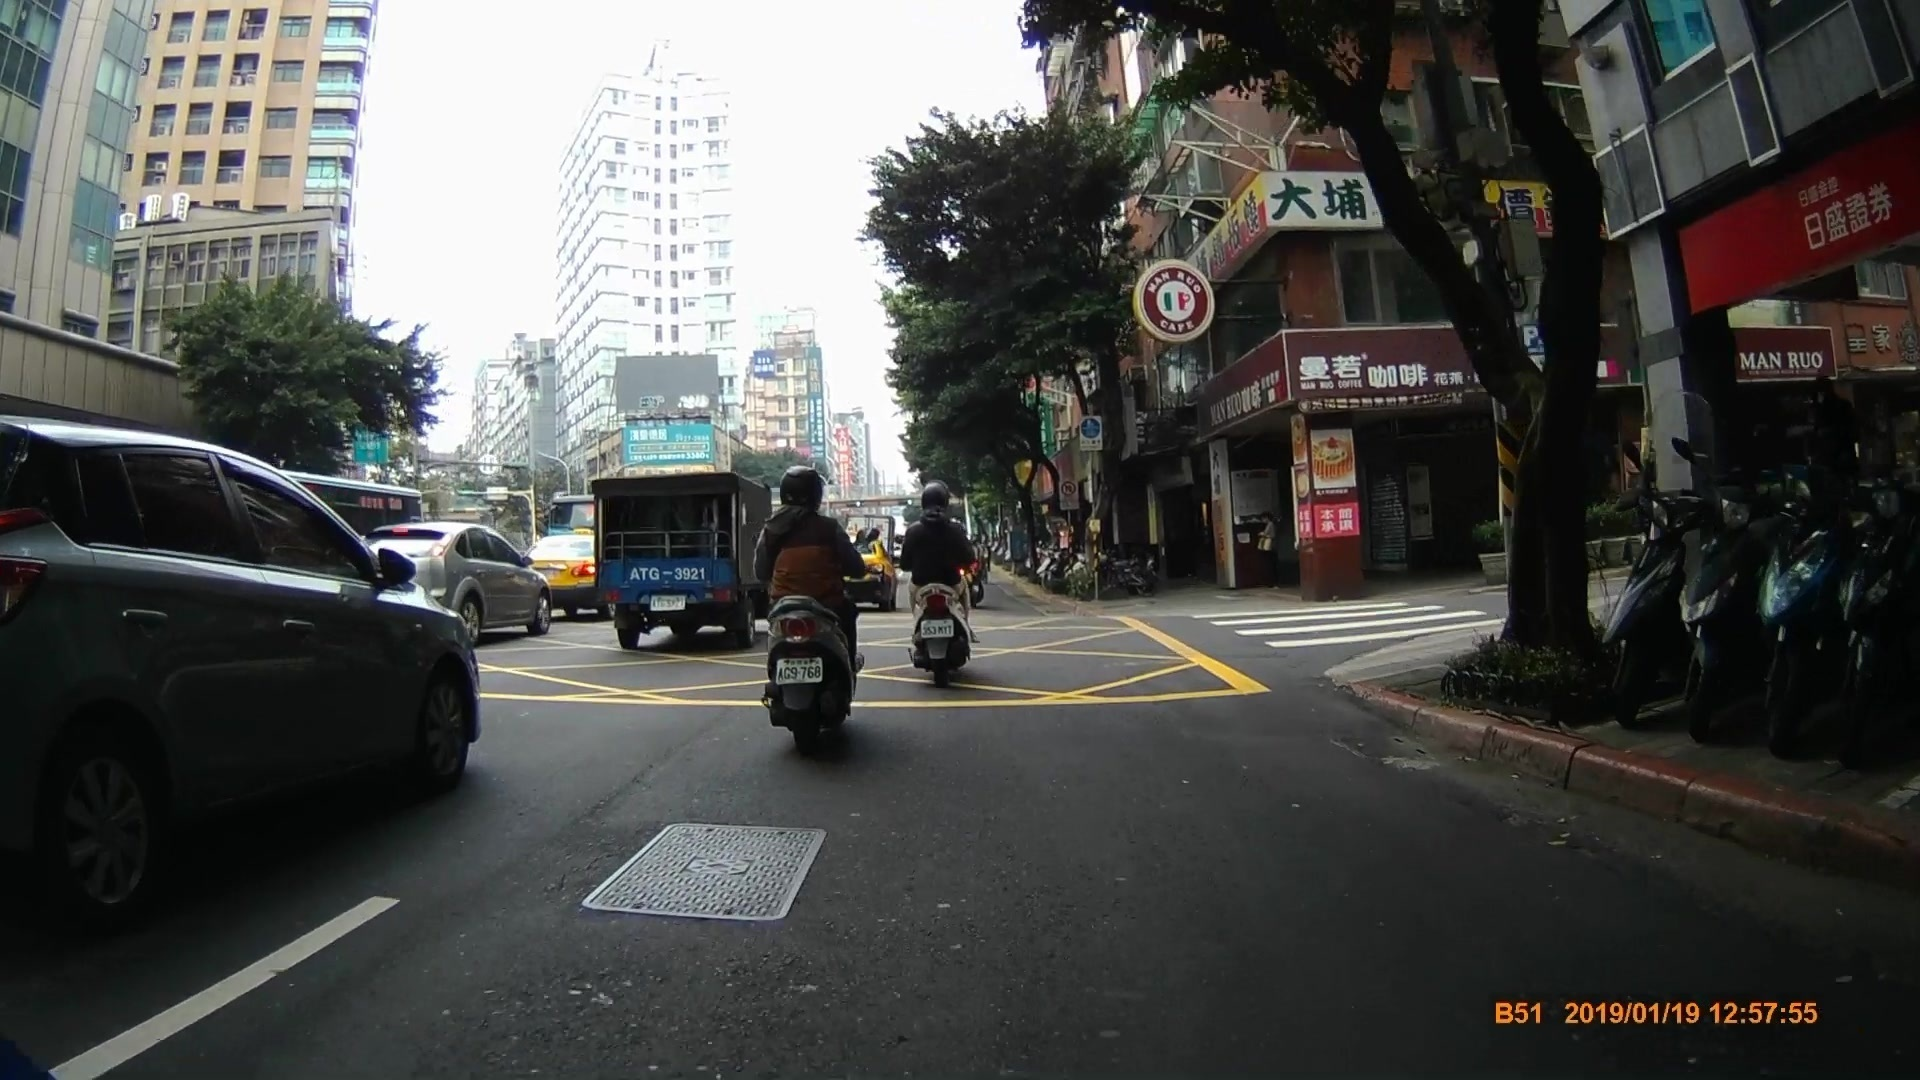License_plate: (771, 653, 823, 686), (918, 617, 958, 643), (644, 589, 689, 612)
